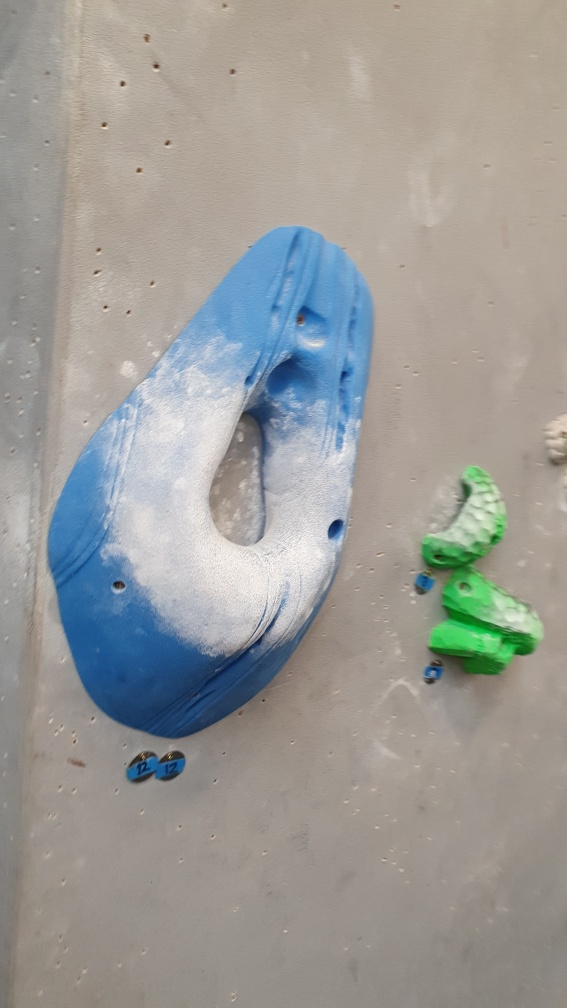Hand Start: (125, 749, 158, 785), (156, 750, 187, 784), (411, 569, 437, 595), (423, 661, 444, 684)
Jug: (423, 561, 545, 678), (420, 461, 511, 569)
Pocket: (46, 223, 377, 741)
